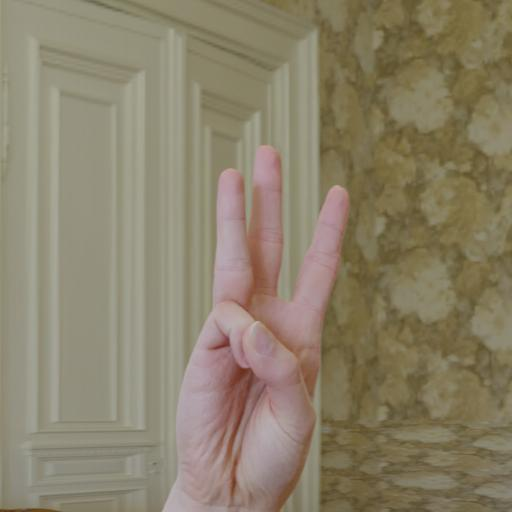W: (161, 134, 371, 512)
